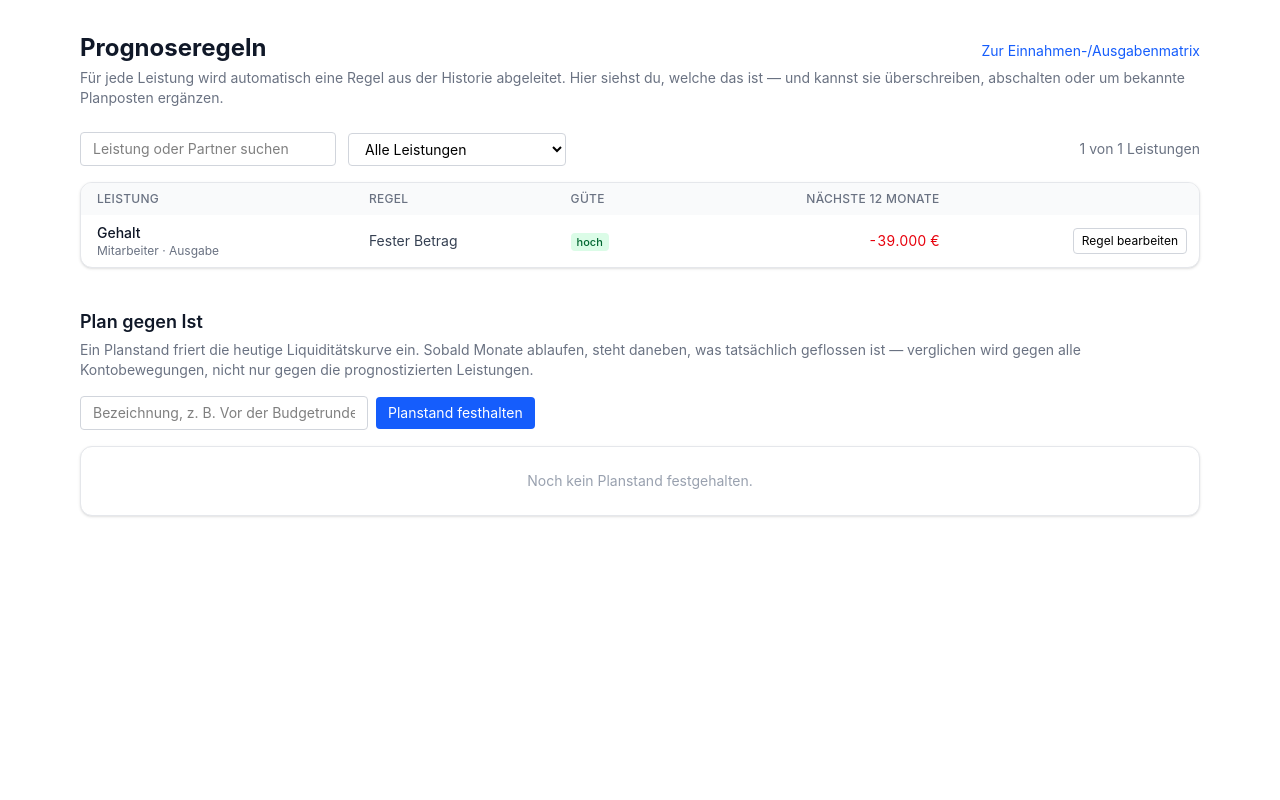
ForecastPage – Regel-Editor › meldet einen Serverfehler statt ihn zu verschlucken
The width and height of the screenshot is (1280, 800).
Click the button "Regel bearbeiten" at (1130, 241), box [1073, 228, 1187, 254]
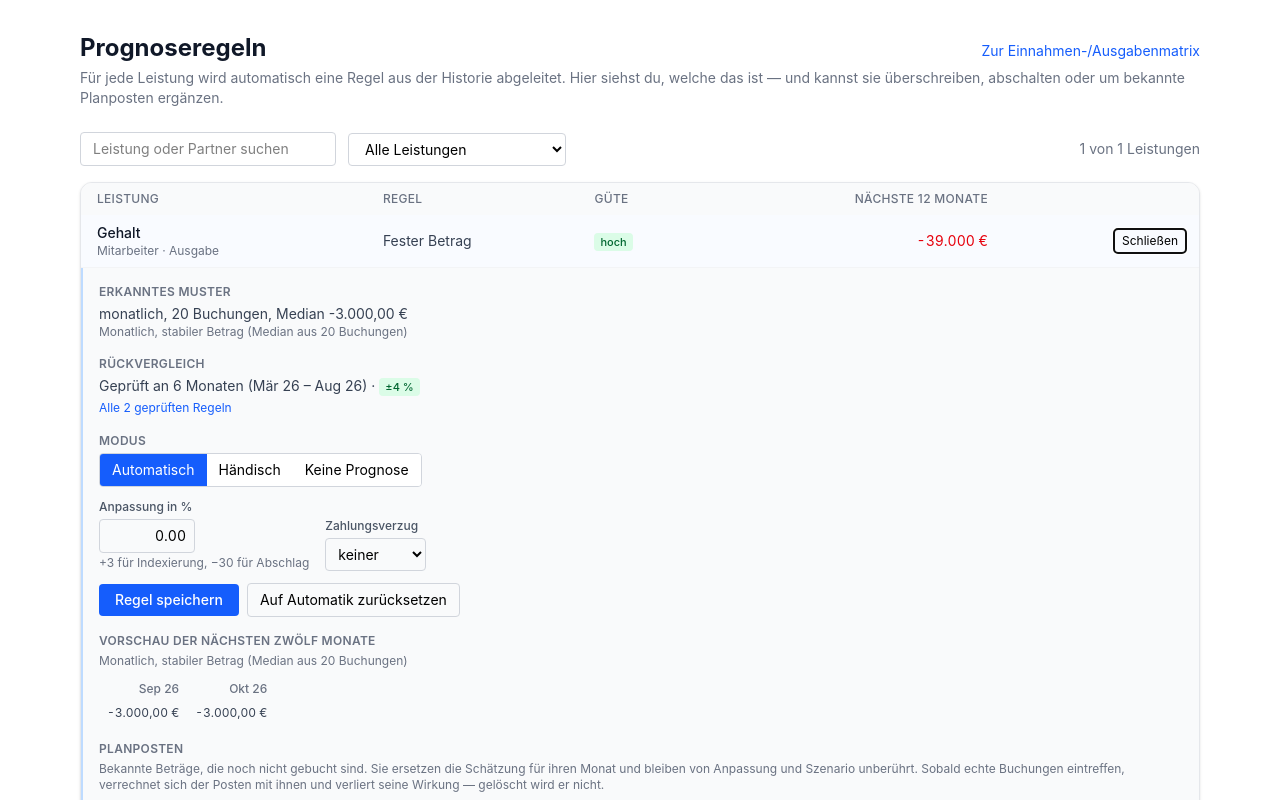
Click the button "Regel speichern" at (169, 600), box [99, 584, 239, 616]
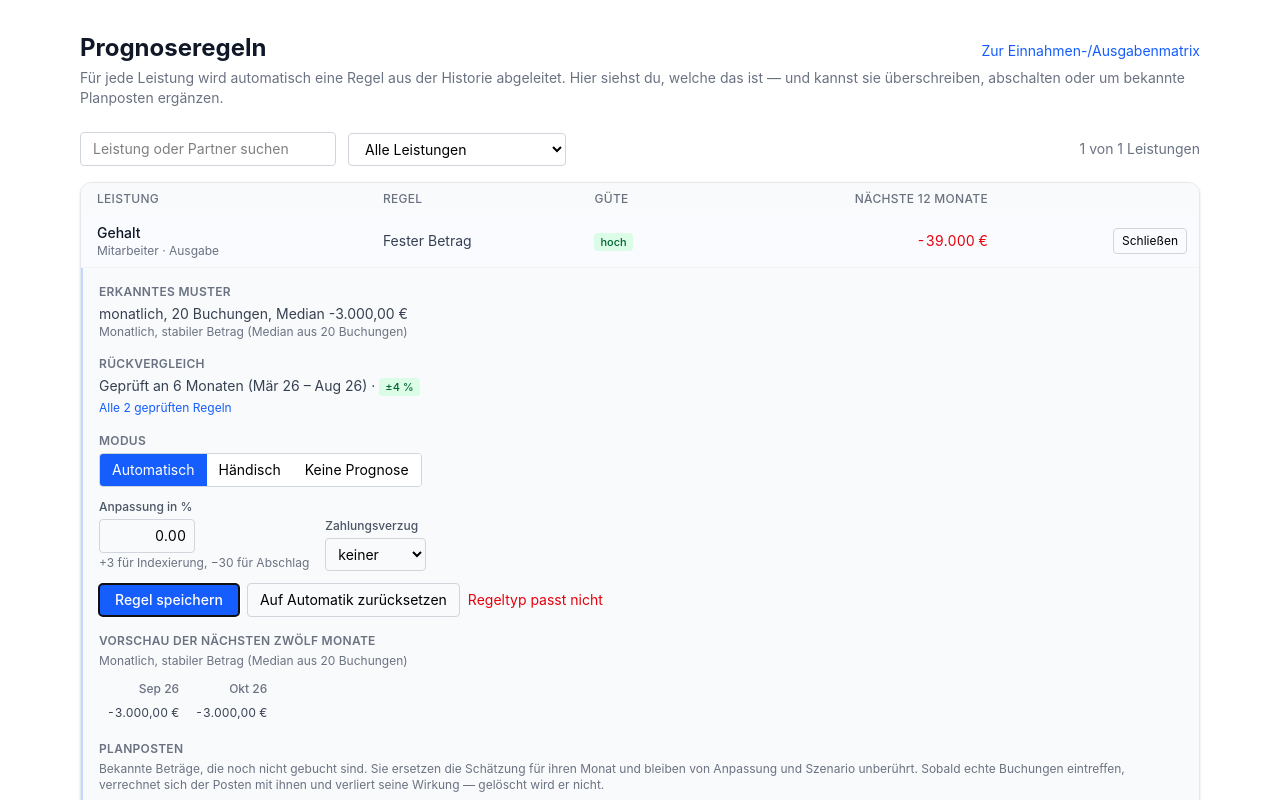
Check: the text "Regeltyp passt nicht" is shown, box [468, 590, 603, 610]
